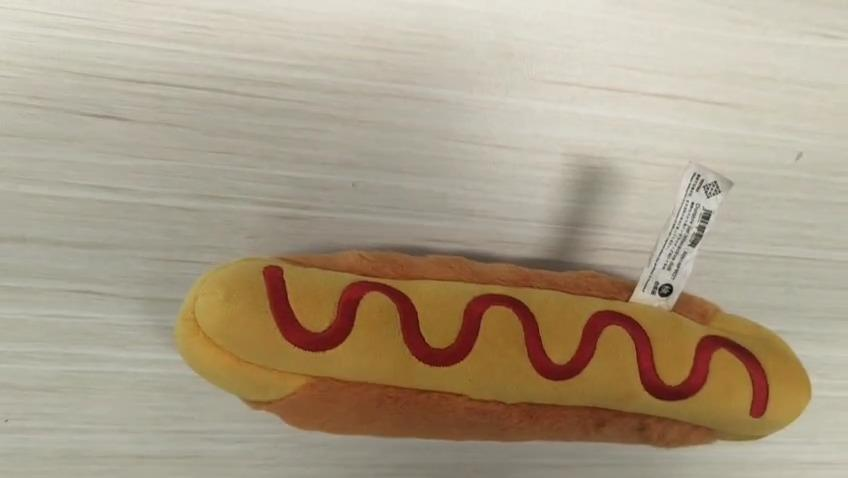hotdog: (174, 248, 812, 447)
